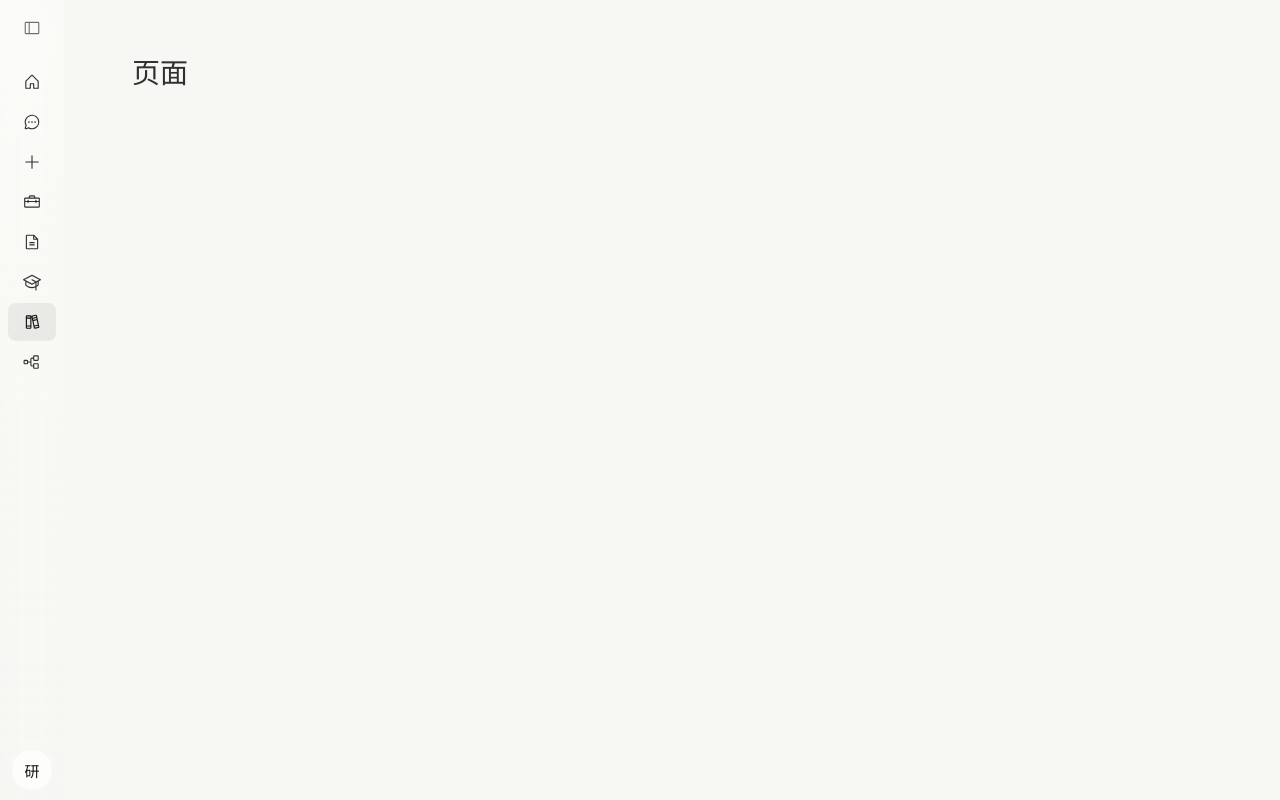
it: expandable knowledge folder › opens the compact sidebar before exposing the children
The image size is (1280, 800).
Click the button named "知识库" at (32, 322), box [8,303,56,341]
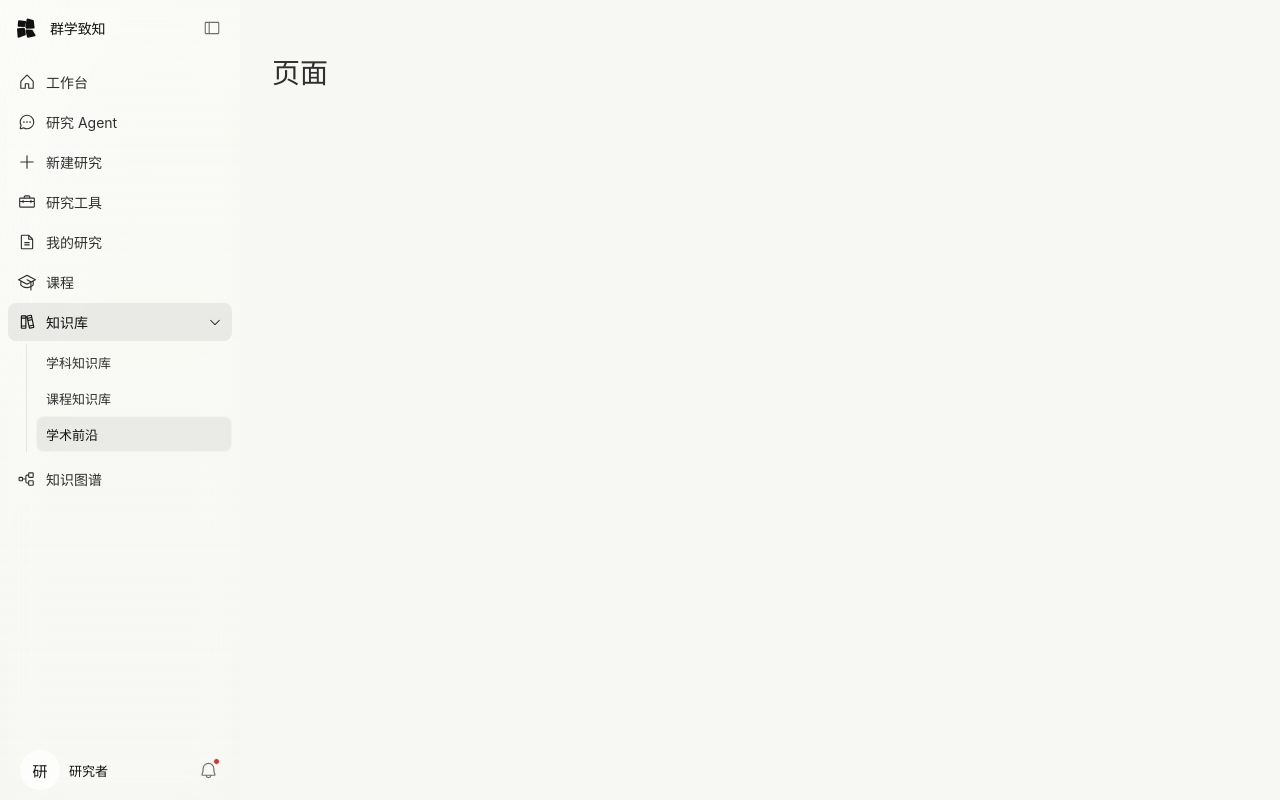
Expected: the button named "收起侧栏" is shown, [196,12,228,44]
